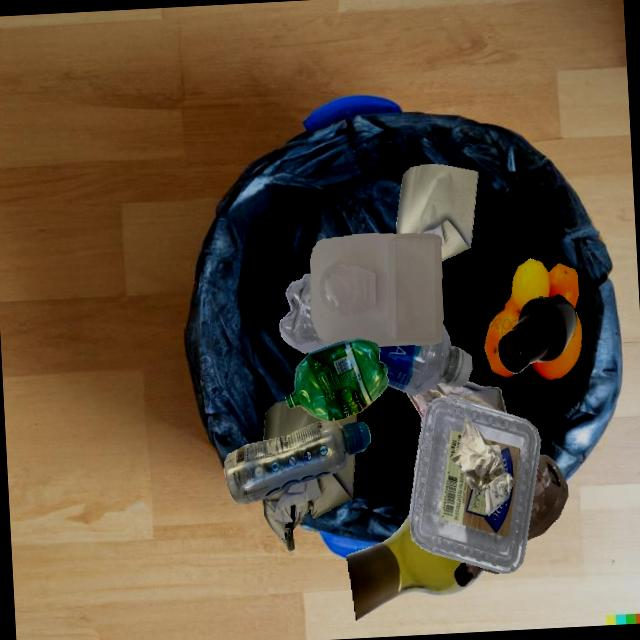biowaste: (484, 258, 579, 378), (532, 311, 582, 380)
glass: (347, 514, 485, 620), (498, 295, 577, 373)
paper: (263, 453, 355, 551), (396, 164, 478, 261), (450, 418, 514, 516), (407, 381, 507, 427), (288, 414, 357, 453), (263, 401, 323, 441), (308, 348, 320, 355)
plastic: (409, 397, 541, 573), (310, 234, 443, 346), (224, 420, 371, 504), (285, 338, 389, 421), (379, 324, 472, 396), (279, 273, 330, 353), (527, 454, 568, 540)
